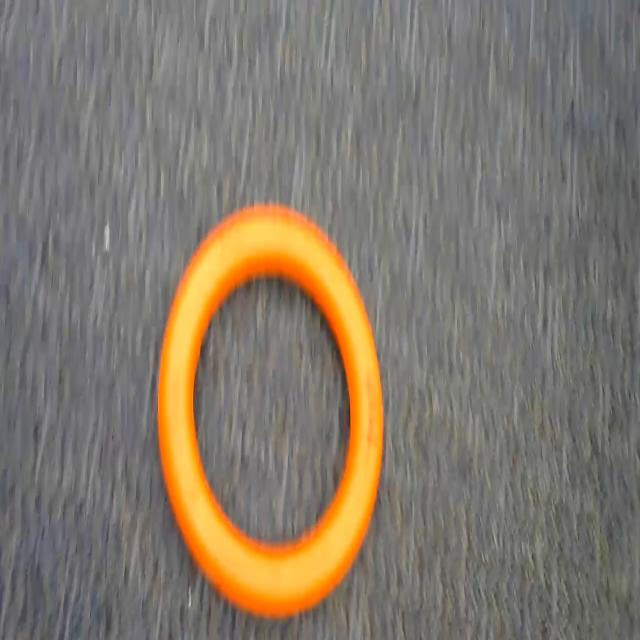note: (140, 197, 392, 616)
